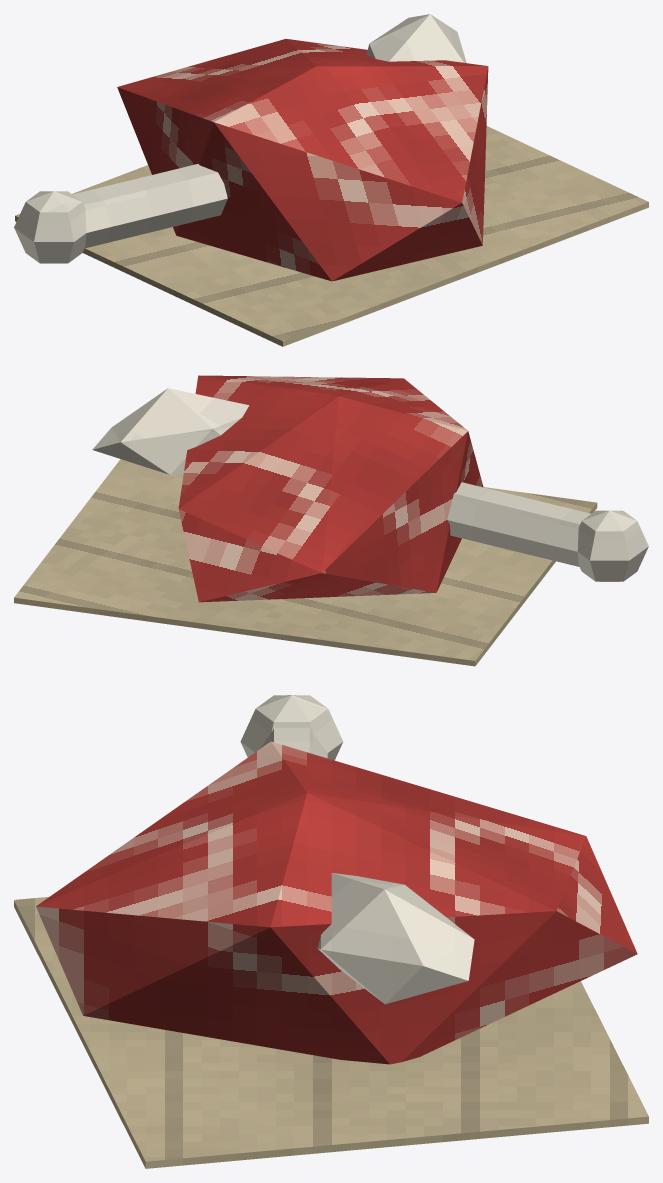
Rendered from meat_chunk.glb.
3 views of the same model, one above another, from view 1: azimuth 30°, elevation 25°; view 2: azimuth 150°, elevation 25°; view 3: azimuth 270°, elevation 25° (orthographic). The views are drawn at different scales.
Parts seen in each view (by area): view 1: meat_chunk; view 2: meat_chunk; view 3: meat_chunk.
Part boxes in pixels (x1,y1,x2,y2): meat_chunk: (14, 14, 648, 346); meat_chunk: (14, 375, 648, 666); meat_chunk: (14, 695, 648, 1168).
Size of the model in its own units: 0.426 by 0.1172 by 0.3209.
3 materials, 3 textured.
